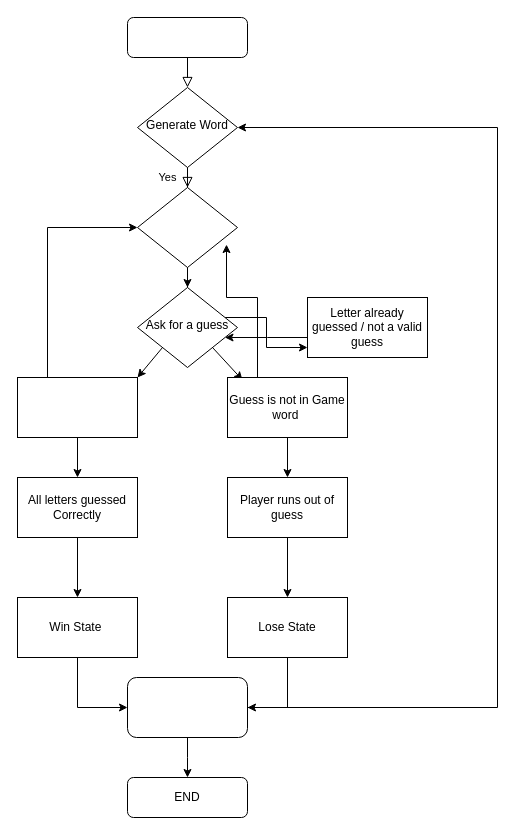
Image size: 523x835. Some labels were removed from this diagram. Each missing label, with the box of its shape:
Ask Player to play again: (126, 676, 248, 738)
Guess is in Game Word: (16, 376, 138, 438)
Show Gameboard: (136, 186, 238, 268)
START GAME: (126, 16, 248, 58)
